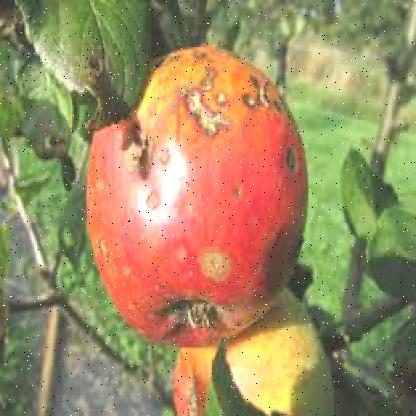damaged_apple: (85, 58, 305, 337), (171, 289, 332, 412)
